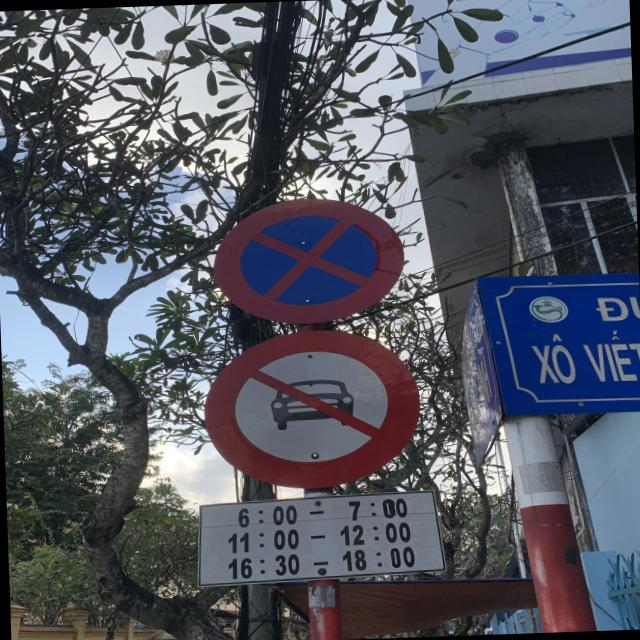Cam_Dung_Va_Dau_Xe: (212, 194, 406, 328)
Cam_O_To: (202, 326, 424, 490)
